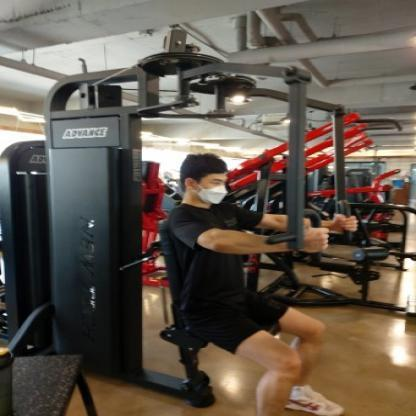chest fly machine: (21, 33, 370, 416)
